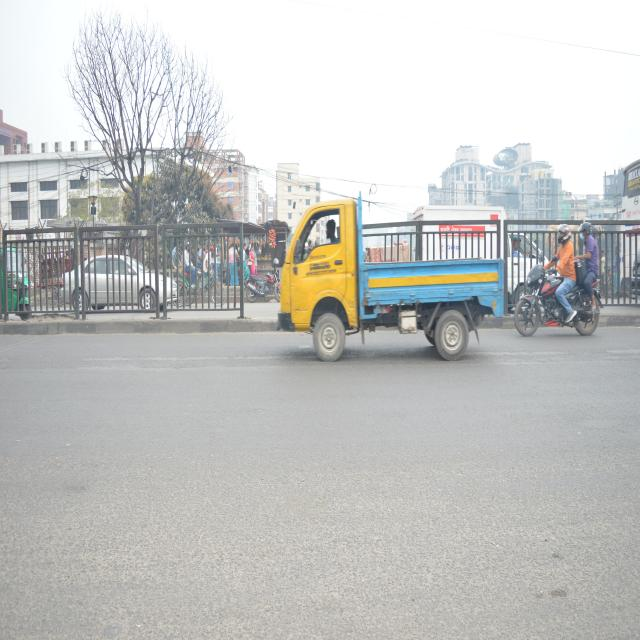pickup-van: (272, 179, 511, 395)
